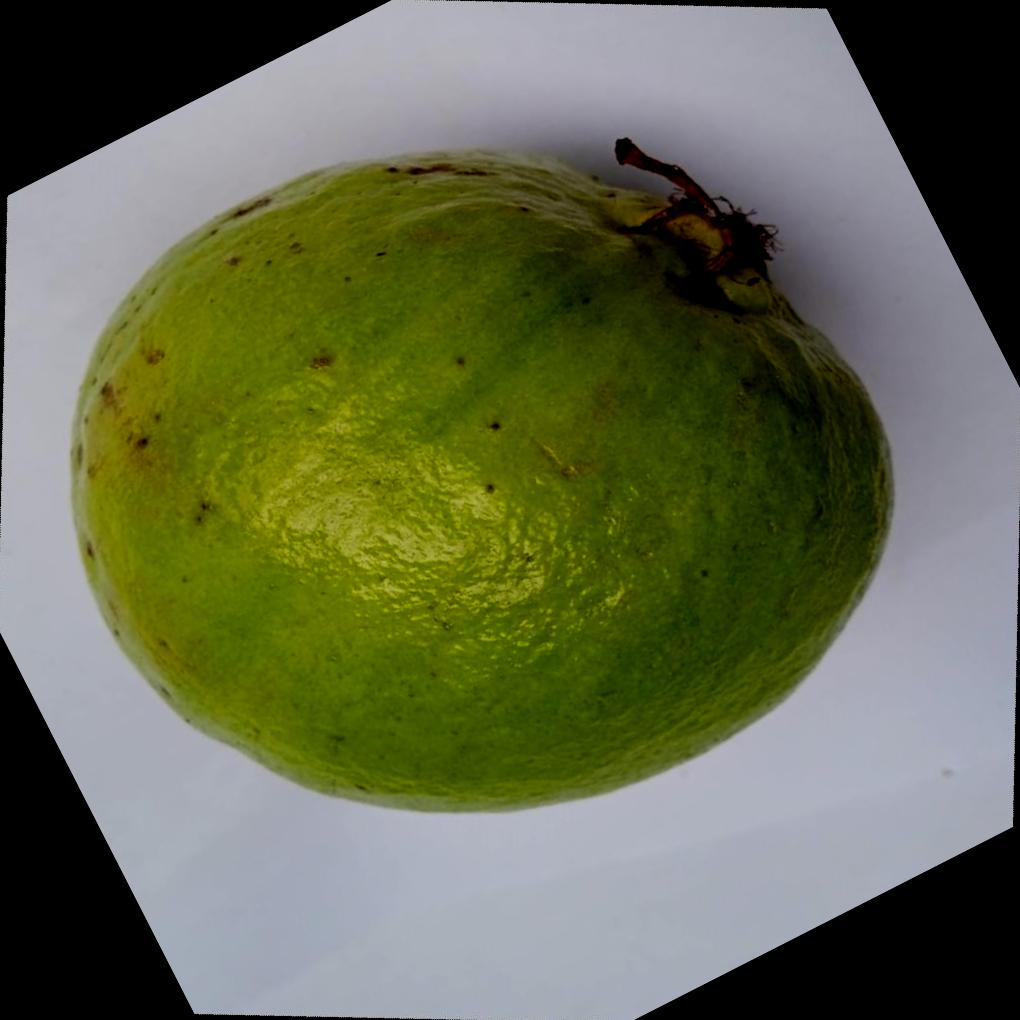FreshGuava: (68, 139, 902, 815)
